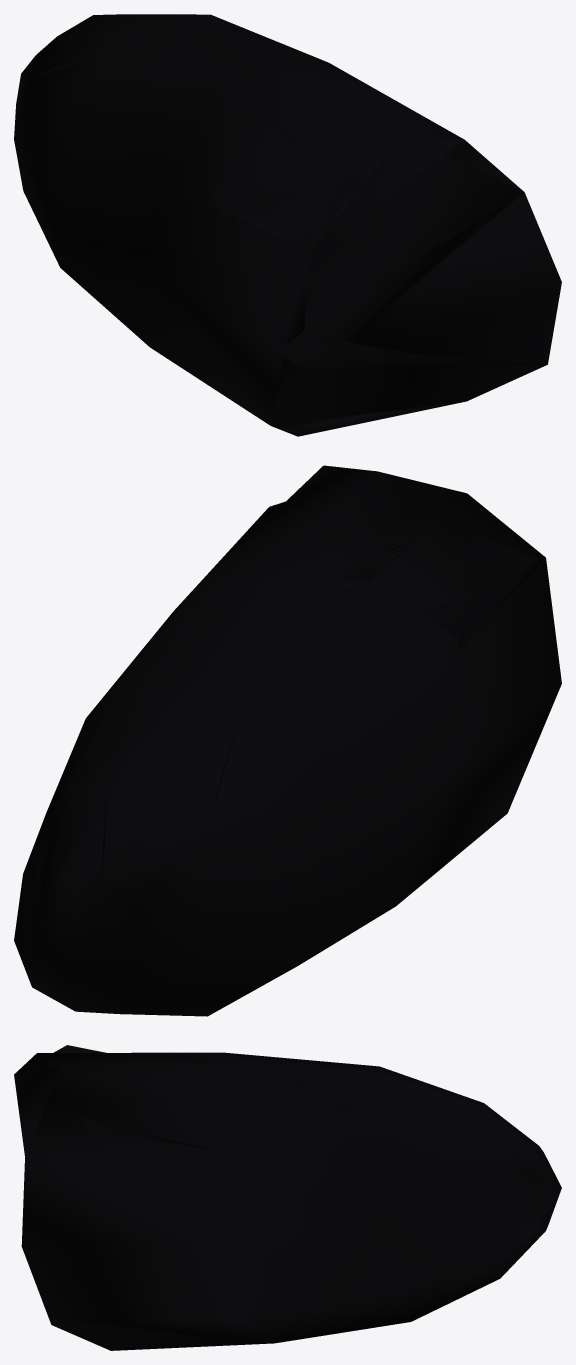
Rendered from brazo2ZIM.obj.
The picture shows the model from 3 angles, top to bottom: view 1: azimuth 30°, elevation 25°; view 2: azimuth 150°, elevation 25°; view 3: azimuth 270°, elevation 25°; orthographic projection. The views are drawn at different scales.
Visible parts, largest first — view 1: BRAZO_1; view 2: BRAZO_1; view 3: BRAZO_1.
Boxes of the visible parts, bbox=[...] form: BRAZO_1: bbox=[14, 14, 561, 436]; BRAZO_1: bbox=[14, 465, 561, 1016]; BRAZO_1: bbox=[14, 1045, 561, 1350].
Bounding box in the file's own units: 0.0499 × 0.0532 × 0.102.
1 material, 1 textured.
